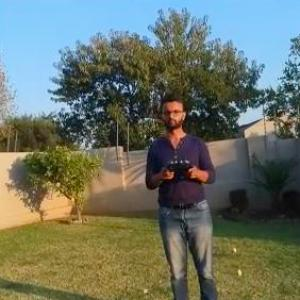follow: (140, 89, 224, 299)
